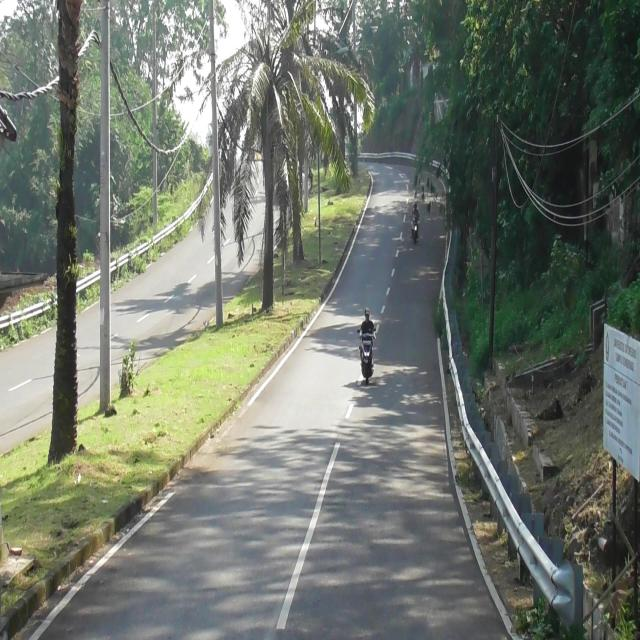motorcycle: (355, 322, 377, 383), (409, 216, 420, 245)
person: (359, 308, 376, 339), (412, 202, 420, 224)
rider_region: (358, 305, 378, 384), (409, 198, 422, 248)
